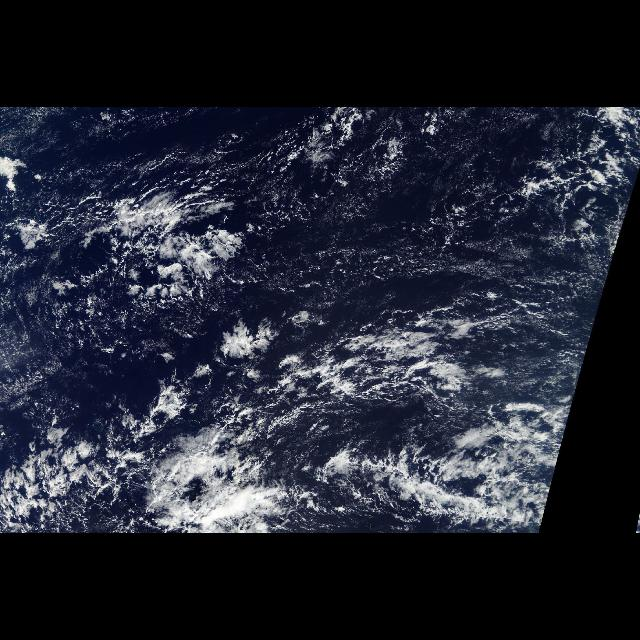Fish: (288, 410, 568, 528)
Gravel: (195, 124, 488, 320)
